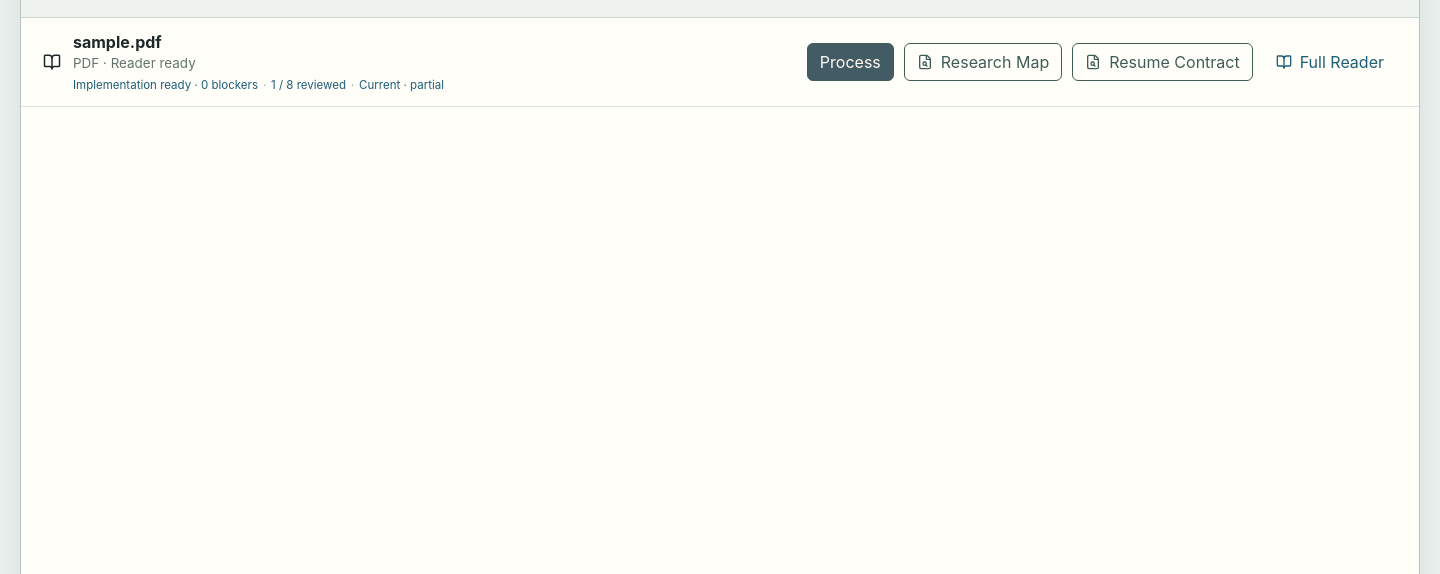
App › uses the authoritative open Contract when the post-save Library refresh fails
Click the button with aria-label "Resume Contract for sample.pdf" at (1162, 62), box x1=1072 y1=43 x2=1253 y2=81
(page scrolled)
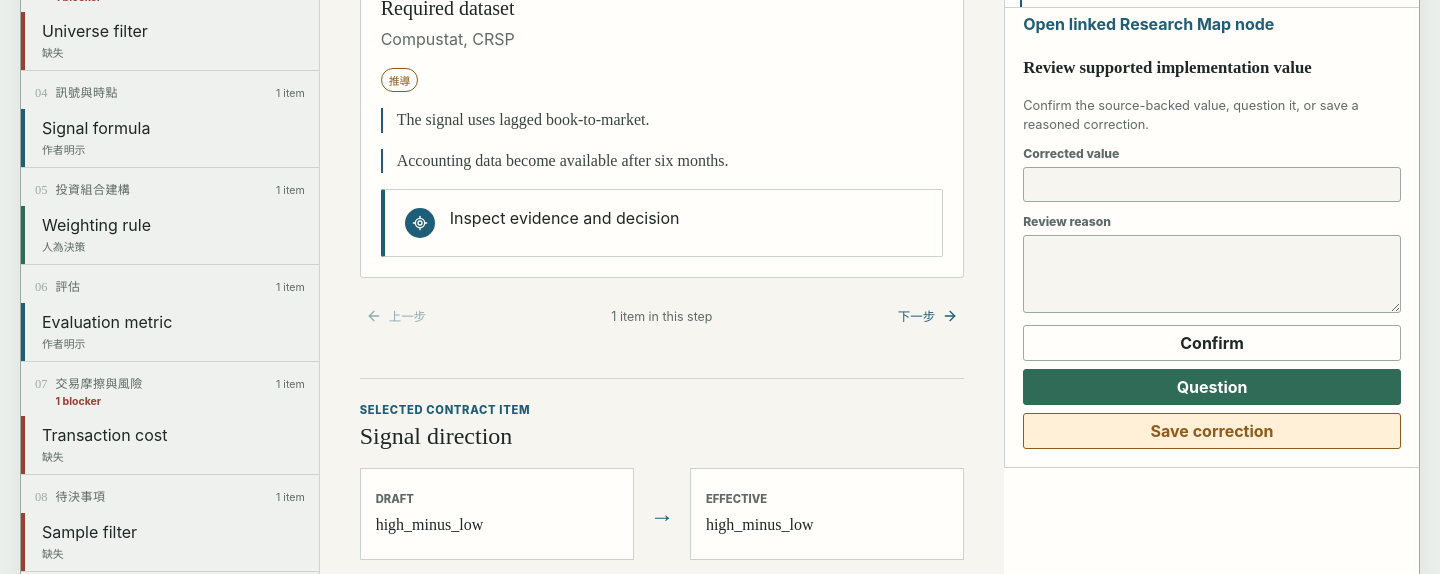
Click the button with aria-label "Question supported item" at (1212, 387), box x1=1023 y1=369 x2=1401 y2=405
(page scrolled)
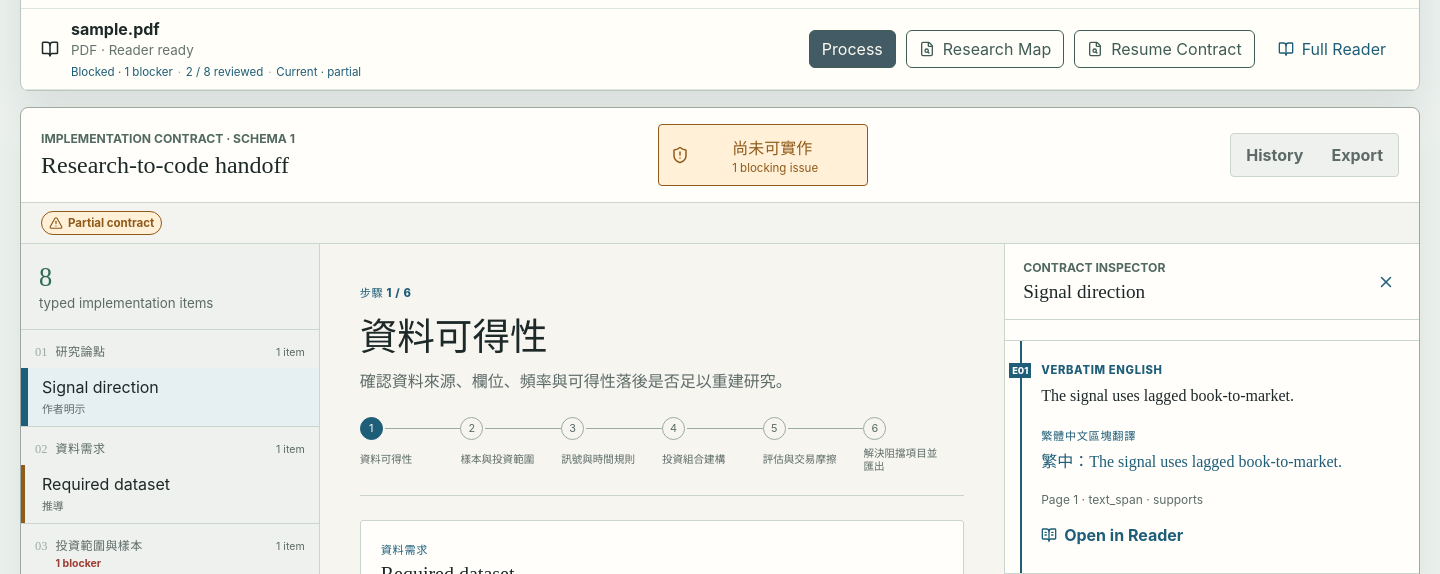
expect the text "尚未可實作" is shown: met, box x1=732 y1=138 x2=812 y2=158
expect the element named "Implementation Contract status for sample.pdf" shows "Blocked · 1 blocker": met, box x1=71 y1=65 x2=361 y2=79
expect the element named "Implementation Contract status for sample.pdf" no longer shows "Implementation ready": met, box x1=71 y1=65 x2=361 y2=79
